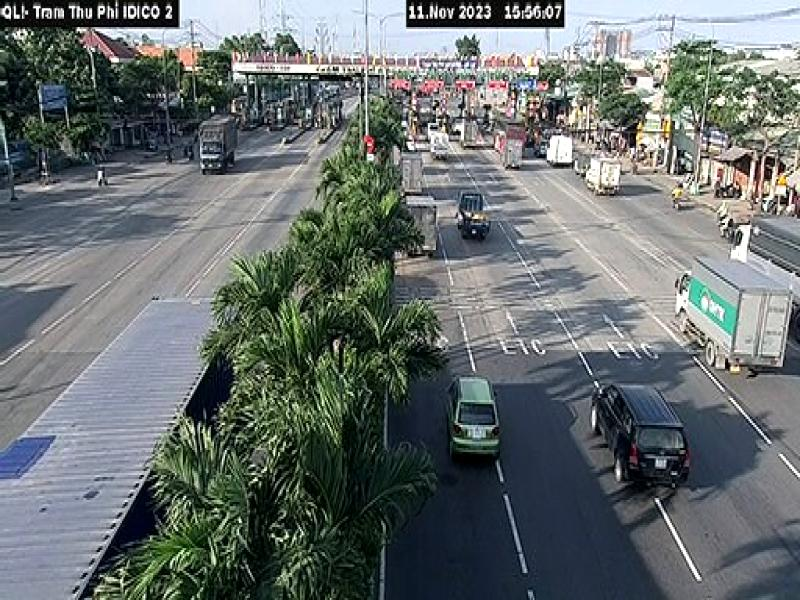truck: (675, 257, 792, 375), (731, 214, 800, 340), (196, 110, 238, 172), (585, 157, 621, 198)
